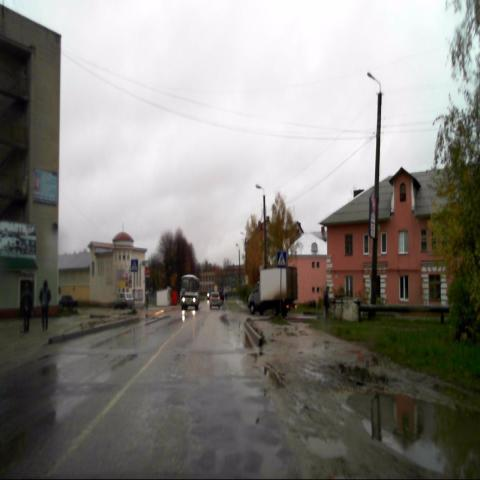5_19_1: (276, 251, 286, 268)
